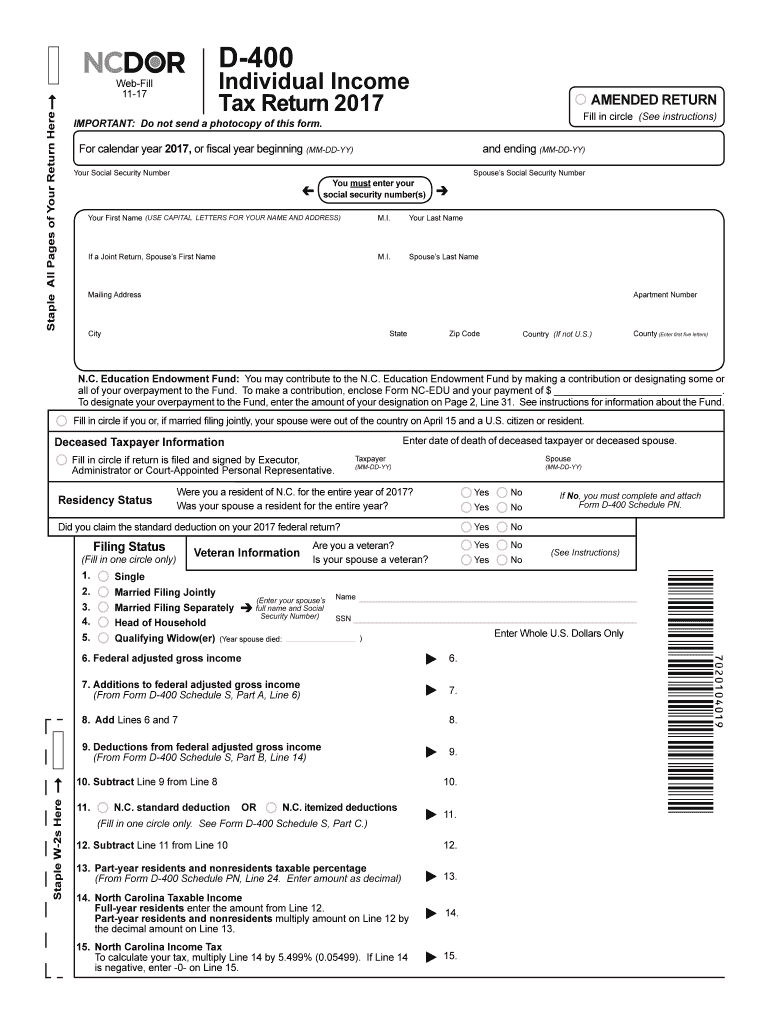checkbox: (458, 484, 473, 500), (494, 483, 509, 499), (494, 498, 509, 514), (458, 498, 473, 514), (458, 518, 473, 534), (494, 517, 509, 533), (494, 536, 509, 552), (494, 551, 509, 567), (458, 550, 473, 566), (458, 536, 473, 552), (95, 567, 110, 583), (95, 583, 110, 599), (95, 598, 110, 614), (95, 613, 110, 629), (95, 629, 110, 645), (95, 798, 110, 814), (263, 798, 278, 814), (573, 91, 588, 107), (53, 412, 68, 428), (53, 451, 68, 467)
textbox: (83, 288, 627, 324), (70, 163, 298, 213), (467, 163, 695, 213), (82, 211, 371, 247), (404, 211, 693, 247), (83, 249, 372, 285), (405, 250, 694, 286), (83, 326, 387, 360), (445, 643, 653, 670), (349, 448, 543, 474), (445, 676, 654, 700), (444, 706, 653, 730), (444, 739, 653, 763), (441, 768, 650, 792), (441, 802, 650, 826), (440, 833, 649, 857), (441, 864, 650, 888), (442, 900, 651, 924), (440, 943, 649, 967), (542, 449, 720, 475), (304, 133, 478, 159), (537, 133, 711, 159), (520, 326, 628, 362), (631, 287, 715, 322), (631, 327, 715, 362), (447, 326, 518, 362), (386, 326, 448, 361), (373, 212, 402, 245), (373, 249, 402, 282)
textline: (355, 588, 641, 604), (349, 609, 635, 625), (553, 384, 725, 398), (282, 629, 357, 645)
